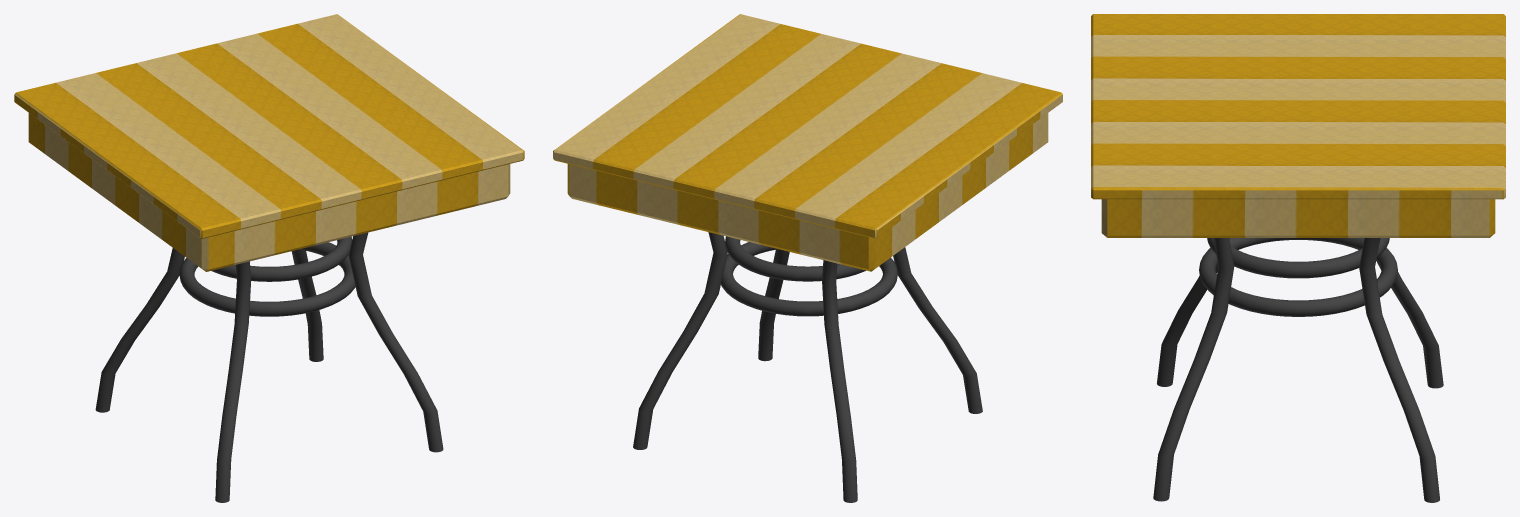
Rendered from sh_scopia_table3.glb.
The picture shows the model from 3 angles, left to right: view 1: azimuth 30°, elevation 25°; view 2: azimuth 150°, elevation 25°; view 3: azimuth 270°, elevation 25°; orthographic projection. The views are drawn at different scales.
Size of the model in its own units: 1 by 0.907 by 1.
Materials: 2 (1 with a texture image).
